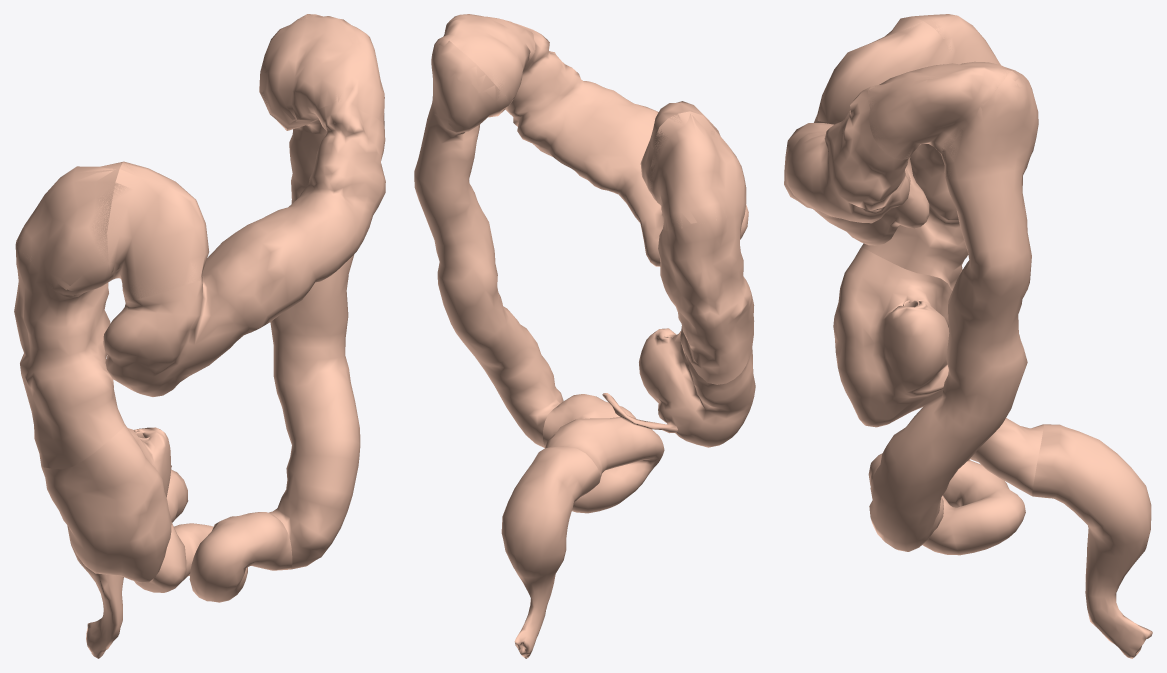
Rendered from sbu_m_intestine_large-80.fbx.
3 renders of one model, left to right at view 1: azimuth 30°, elevation 25°; view 2: azimuth 150°, elevation 25°; view 3: azimuth 270°, elevation 25°, orthographic. The views are drawn at different scales.
Visible parts, largest first — view 1: VH_M_transverse_colon, VH_M_ascending_colon, VH_M_descending_colon, VH_M_caecum, VH_M_hepatic_flexure_of_colon, VH_M_sigmoid_colon, VH_M_splenic_flexure_of_colon, VH_M_rectum; view 2: VH_M_descending_colon, VH_M_ascending_colon, VH_M_transverse_colon, VH_M_rectum, VH_M_caecum, VH_M_sigmoid_colon, VH_M_splenic_flexure_of_colon, VH_M_hepatic_flexure_of_colon, VH_M_vermiform_appendix; view 3: VH_M_descending_colon, VH_M_transverse_colon, VH_M_caecum, VH_M_rectum, VH_M_splenic_flexure_of_colon, VH_M_sigmoid_colon, VH_M_hepatic_flexure_of_colon, VH_M_ascending_colon.
Part boxes in pixels (x1,y1,x2,y2): VH_M_transverse_colon: (103,14,385,396); VH_M_ascending_colon: (14,161,124,469); VH_M_descending_colon: (268,19,360,569); VH_M_caecum: (41,424,171,582); VH_M_hepatic_flexure_of_colon: (17,161,209,300); VH_M_sigmoid_colon: (134,469,292,602); VH_M_splenic_flexure_of_colon: (259,14,384,135); VH_M_rectum: (67,525,123,658); VH_M_descending_colon: (414,38,563,447); VH_M_ascending_colon: (649,111,754,384); VH_M_transverse_colon: (443,14,748,266); VH_M_rectum: (501,446,600,658); VH_M_caecum: (639,328,755,447); VH_M_sigmoid_colon: (543,394,664,513); VH_M_splenic_flexure_of_colon: (431,14,535,135); VH_M_hepatic_flexure_of_colon: (640,101,746,230); VH_M_vermiform_appendix: (602,393,677,433); VH_M_descending_colon: (869,70,1038,551); VH_M_transverse_colon: (784,16,1011,245); VH_M_caecum: (833,247,952,427); VH_M_rectum: (1032,424,1152,658); VH_M_splenic_flexure_of_colon: (868,62,1038,178); VH_M_sigmoid_colon: (868,418,1043,555); VH_M_hepatic_flexure_of_colon: (817,14,1000,123); VH_M_ascending_colon: (861,14,1000,290).
Size of the model in its own units: 25.91 by 45.03 by 22.48.
